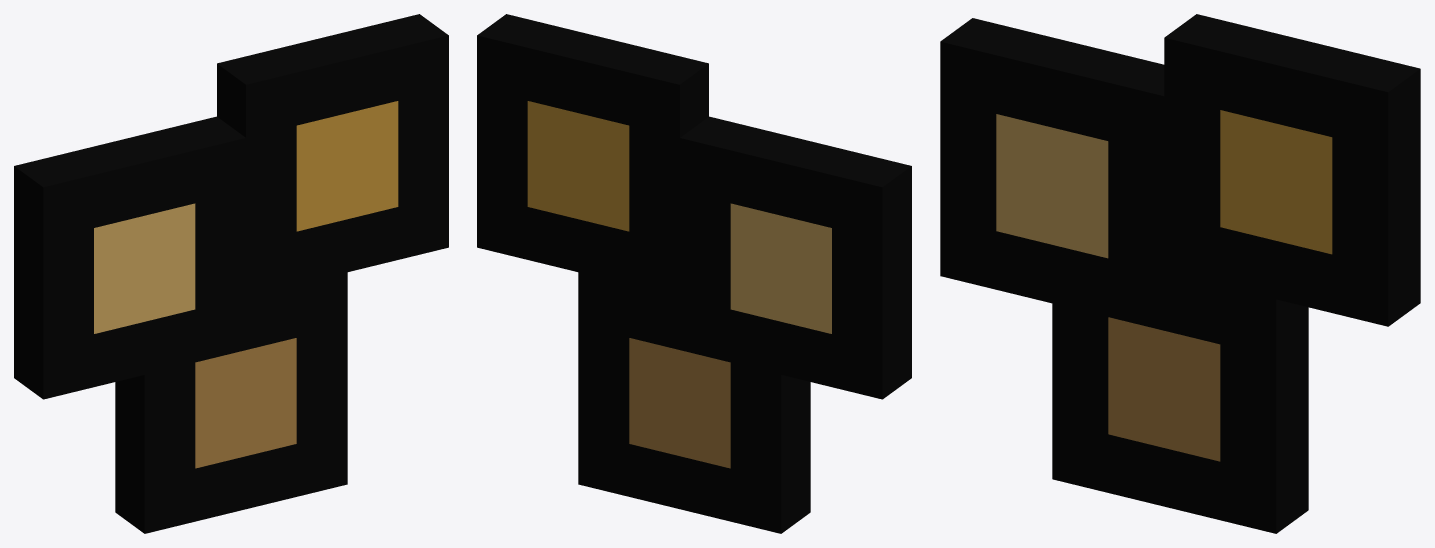
The model's file is Potato Seeds.glb.
3 renders of one model, left to right at view 1: azimuth 30°, elevation 25°; view 2: azimuth 150°, elevation 25°; view 3: azimuth 330°, elevation 25°, orthographic. The views are drawn at different scales.
Visible parts, largest first — view 1: generated(Clone); view 2: generated(Clone); view 3: generated(Clone).
Boxes of the visible parts, x1,y1,x2,y2 form: generated(Clone): [14, 14, 448, 533]; generated(Clone): [477, 14, 911, 533]; generated(Clone): [940, 14, 1420, 533].
Size of the model in its own units: 8 by 8 by 1.
Materials: 1 (1 with a texture image).
